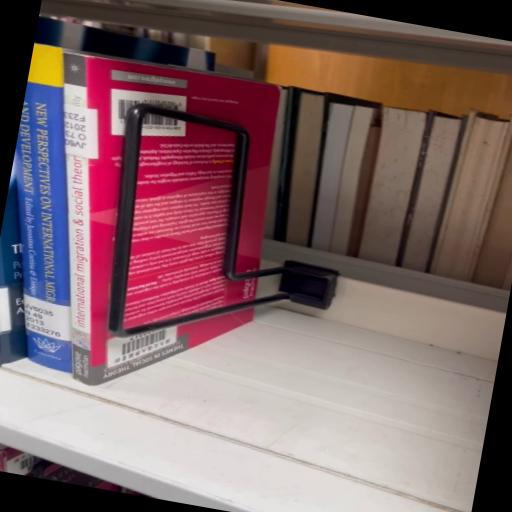reverse: (34, 45, 279, 386)
